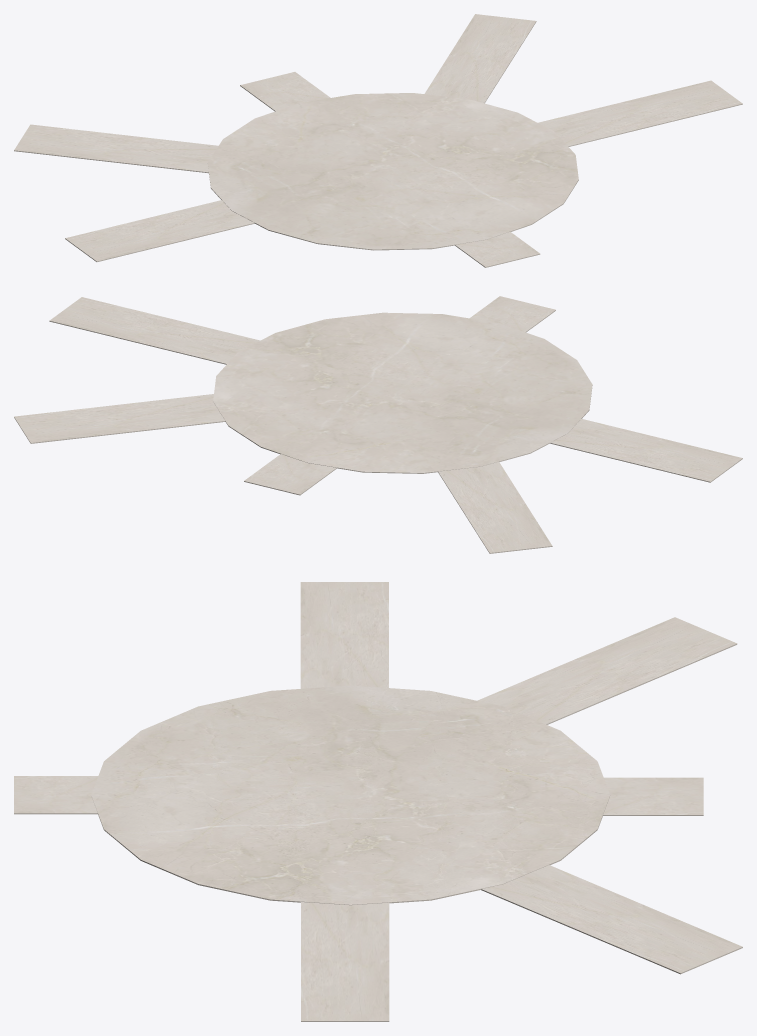
The model's file is floorCenter.obj.
The picture shows the model from 3 angles, top to bottom: view 1: azimuth 30°, elevation 25°; view 2: azimuth 150°, elevation 25°; view 3: azimuth 270°, elevation 25°; orthographic projection. The views are drawn at different scales.
Parts seen in each view (by area): view 1: pCylinder1, pasted__pasted__pasted__pasted__pCube1 pasted__pasted__pasted__g, pasted__pasted__pasted__pasted__pasted__pCube1 pasted__pasted__p, pasted__pasted__pasted__pCube1 pasted__pasted__group pasted__gro, pasted__pCube1 group, pasted__pasted__pCube1 pasted__group group8; view 2: pCylinder1, pasted__pasted__pasted__pasted__pCube1 pasted__pasted__pasted__g, pasted__pasted__pasted__pasted__pasted__pCube1 pasted__pasted__p, pasted__pasted__pasted__pCube1 pasted__pasted__group pasted__gro, pasted__pCube1 group, pasted__pasted__pCube1 pasted__group group8; view 3: pCylinder1, pasted__pasted__pasted__pasted__pCube1 pasted__pasted__pasted__g, pasted__pasted__pasted__pasted__pasted__pCube1 pasted__pasted__p, pasted__pasted__pasted__pCube1 pasted__pasted__group pasted__gro, pasted__pCube1 group, pasted__pasted__pCube1 pasted__group group8.
Part boxes in pixels (left/top/right/bottom): pCylinder1: left=207, top=93, right=578, bottom=250; pasted__pasted__pasted__pasted__pCube1 pasted__pasted__pasted__g: left=14, top=80, right=742, bottom=173; pasted__pasted__pasted__pasted__pasted__pCube1 pasted__pasted__p: left=424, top=14, right=536, bottom=103; pasted__pasted__pasted__pCube1 pasted__pasted__group pasted__gro: left=65, top=200, right=254, bottom=261; pasted__pCube1 group: left=240, top=72, right=330, bottom=111; pasted__pasted__pCube1 pasted__group group8: left=455, top=231, right=540, bottom=267; pCylinder1: left=213, top=312, right=592, bottom=473; pasted__pasted__pasted__pasted__pCube1 pasted__pasted__pasted__g: left=49, top=297, right=552, bottom=553; pasted__pasted__pasted__pasted__pasted__pCube1 pasted__pasted__p: left=14, top=394, right=225, bottom=443; pasted__pasted__pasted__pCube1 pasted__pasted__group pasted__gro: left=550, top=419, right=742, bottom=482; pasted__pCube1 group: left=244, top=454, right=336, bottom=495; pasted__pasted__pCube1 pasted__group group8: left=470, top=296, right=555, bottom=332; pCylinder1: left=91, top=685, right=610, bottom=905; pasted__pasted__pasted__pasted__pCube1 pasted__pasted__pasted__g: left=301, top=617, right=737, bottom=1021; pasted__pasted__pasted__pasted__pasted__pCube1 pasted__pasted__p: left=481, top=865, right=742, bottom=974; pasted__pasted__pasted__pCube1 pasted__pasted__group pasted__gro: left=300, top=582, right=388, bottom=688; pasted__pCube1 group: left=603, top=777, right=703, bottom=815; pasted__pasted__pCube1 pasted__group group8: left=14, top=776, right=98, bottom=814.
Bounding box in the file's own units: 21.51 × 0.0345 × 15.1.
7 materials, 7 textured.
